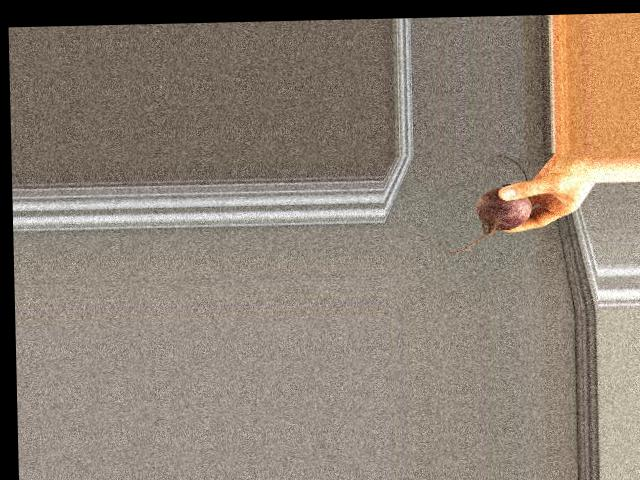beet: (441, 153, 531, 253)
